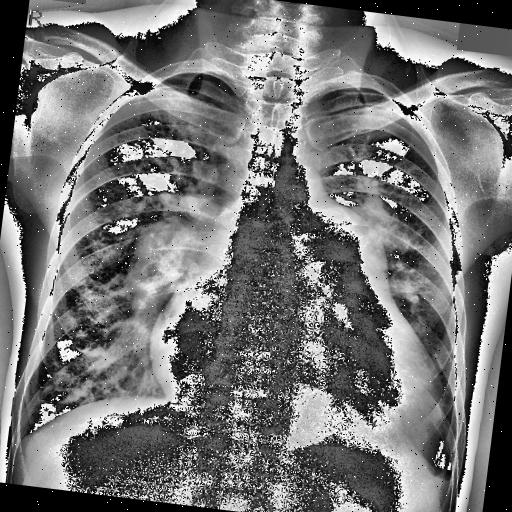10- Pleural effusion: (418, 443, 460, 510), (419, 454, 460, 494)
11- Pleural thickening: (418, 443, 460, 510), (419, 454, 460, 494)
3- Cardiomegaly: (140, 304, 455, 460), (136, 316, 456, 466), (138, 328, 448, 446)
9- Other lesion: (286, 199, 396, 288), (312, 197, 402, 298)
